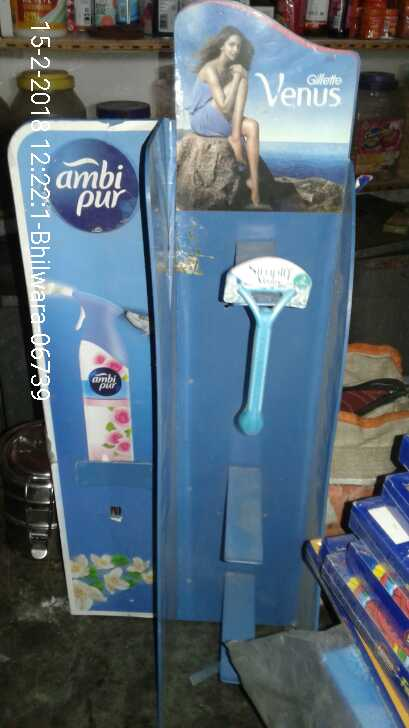reject: (71, 259, 379, 470)
